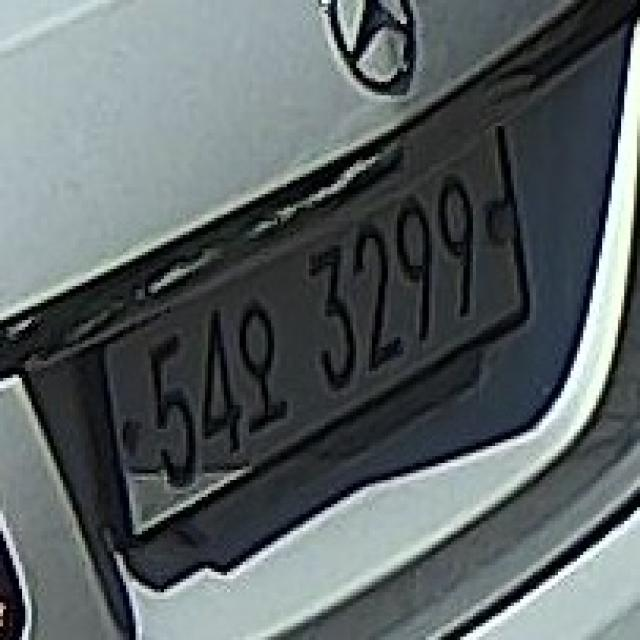2: (353, 204, 397, 385)
3: (306, 222, 356, 408)
4: (195, 293, 246, 463)
5: (142, 323, 198, 497)
9: (435, 156, 489, 334), (394, 180, 438, 361)
license_plate: (85, 109, 533, 579)
o: (237, 293, 290, 439)
